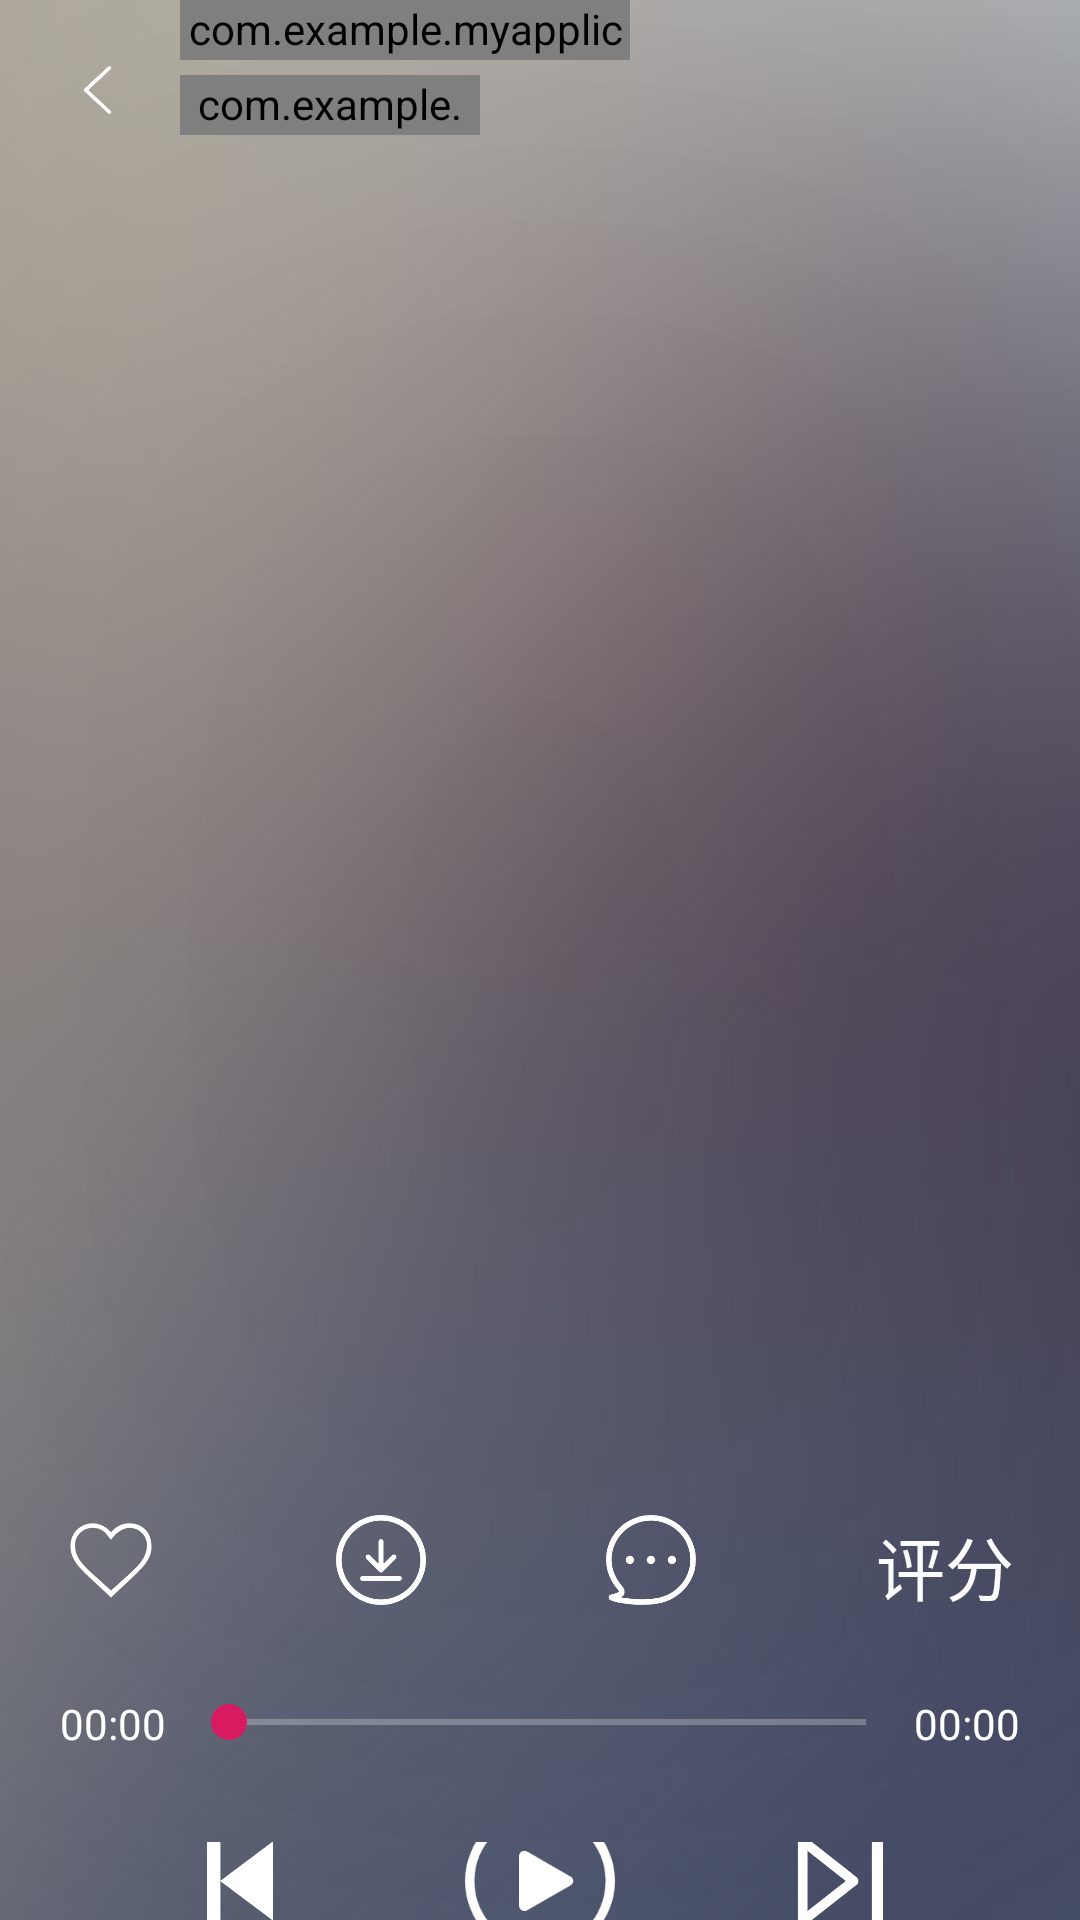

Named icons in this screenshot (1080 x 1920) and their centers, [x,y]:
back: [97,90]
commentit: [651,1560]
dowloadit: [381,1560]
likeit: [111,1560]
